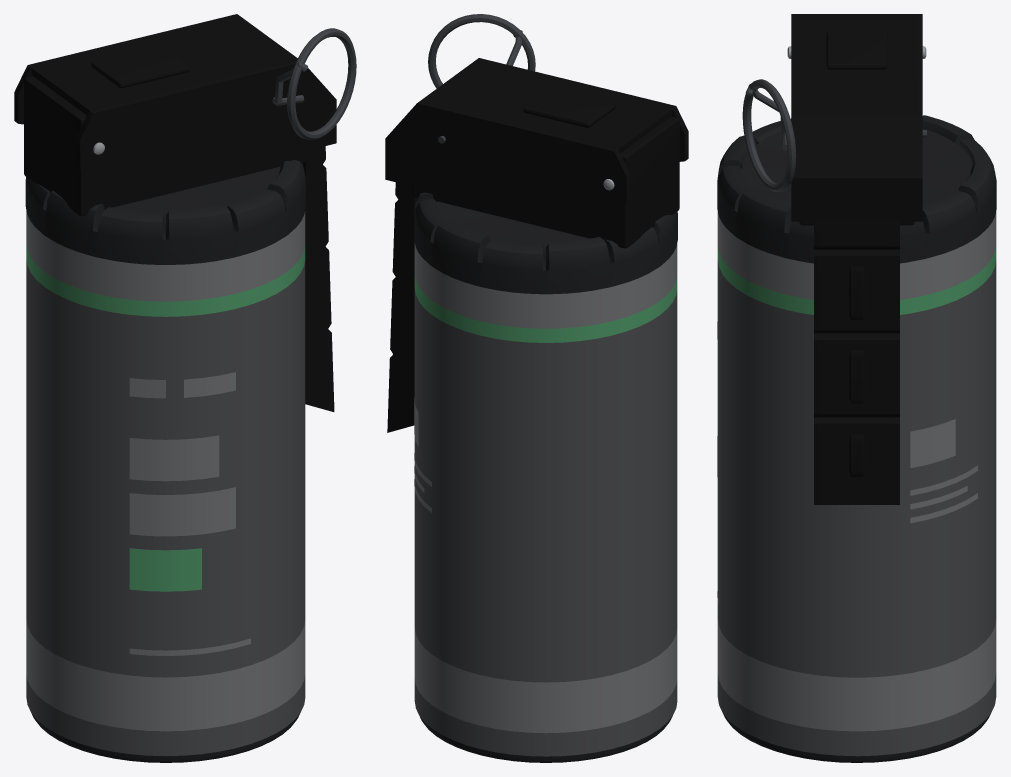
The model's file is smoke.glb.
The picture shows the model from 3 angles, left to right: view 1: azimuth 30°, elevation 25°; view 2: azimuth 150°, elevation 25°; view 3: azimuth 270°, elevation 25°; orthographic projection. The views are drawn at different scales.
Visible parts, largest first — view 1: Smoke; view 2: Smoke; view 3: Smoke.
Part boxes in pixels (x1,y1,x2,y2): Smoke: (14, 14, 356, 762); Smoke: (385, 14, 688, 762); Smoke: (717, 14, 996, 762).
Bounding box in the file's own units: 0.0635 × 0.1478 × 0.0552.
